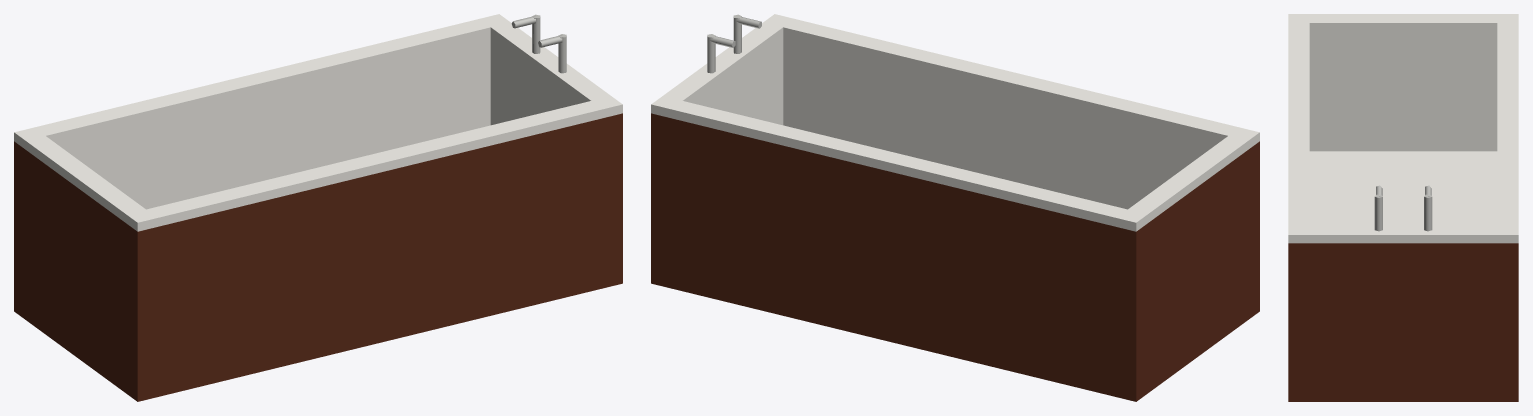
Rendered from parametric-bath-1st.glb.
3 renders of one model, left to right at view 1: azimuth 30°, elevation 25°; view 2: azimuth 150°, elevation 25°; view 3: azimuth 270°, elevation 25°, orthographic. The views are drawn at different scales.
Visible parts, largest first — view 1: parametric-bath-1st; view 2: parametric-bath-1st; view 3: parametric-bath-1st.
Boxes of the visible parts, x1,y1,x2,y2 form: parametric-bath-1st: [14, 14, 622, 401]; parametric-bath-1st: [651, 14, 1259, 401]; parametric-bath-1st: [1288, 14, 1518, 401].
Size of the model in its own units: 1.7 by 0.7214 by 0.75.
